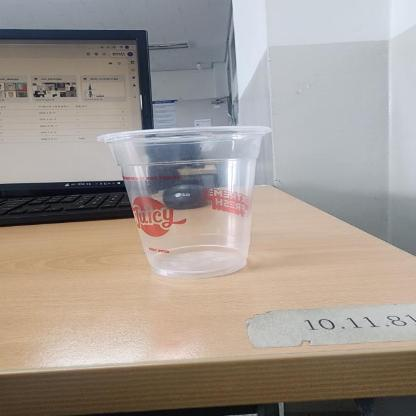Plastic Cup: (96, 126, 270, 278)
